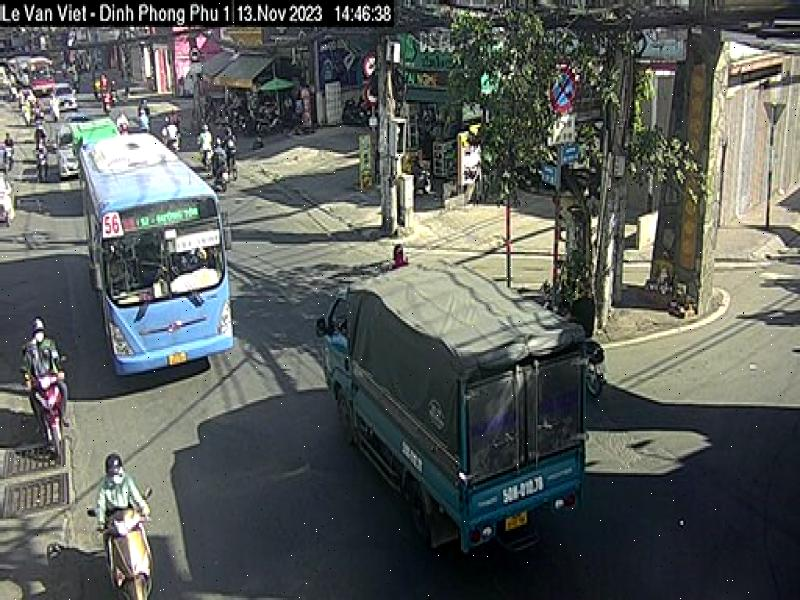bus: (74, 130, 234, 376)
truck: (322, 261, 589, 560)
